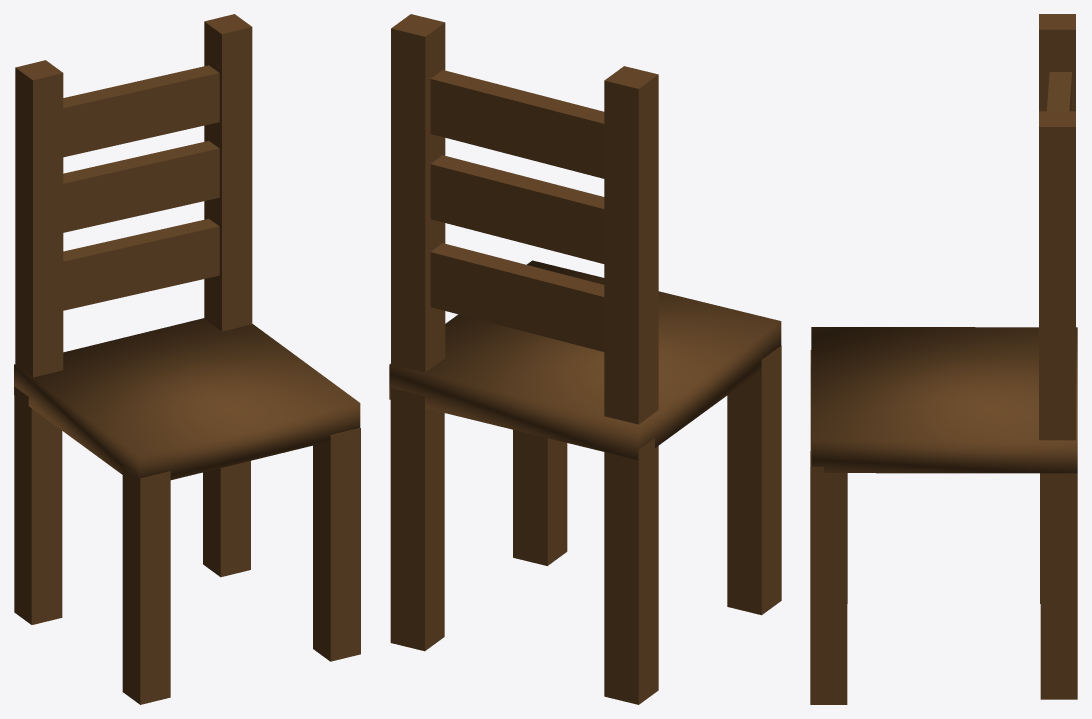
3 renders of one model, left to right at view 1: azimuth 30°, elevation 25°; view 2: azimuth 150°, elevation 25°; view 3: azimuth 270°, elevation 25°, orthographic. The views are drawn at different scales.
Visible parts, largest first — view 1: Plane.004, Cube.011, Cube.010, Cube.008, Cube.009, Cube.004, Plane.005, Plane.006, Plane.007, Cube.007; view 2: Plane.004, Cube.011, Cube.010, Cube.004, Cube.007, Cube.008, Plane.005, Plane.006, Plane.007, Cube.009; view 3: Plane.004, Cube.010, Cube.009, Cube.007, Cube.011, Plane.007.
Boxes of the visible parts, x1,y1,x2,y2 form: Plane.004: (14, 318, 360, 479); Cube.011: (15, 60, 63, 377); Cube.010: (204, 14, 252, 331); Cube.008: (122, 466, 170, 704); Cube.009: (313, 428, 360, 661); Cube.004: (14, 386, 62, 624); Plane.005: (63, 218, 219, 310); Plane.006: (63, 141, 219, 232); Plane.007: (63, 65, 219, 157); Cube.007: (203, 461, 250, 577); Plane.004: (389, 260, 781, 460); Cube.011: (604, 66, 658, 424); Cube.010: (391, 14, 445, 372); Cube.004: (604, 438, 658, 704); Cube.007: (390, 388, 444, 651); Cube.008: (727, 345, 781, 615); Plane.005: (430, 243, 604, 351); Plane.006: (430, 155, 604, 263); Plane.007: (430, 70, 604, 178); Cube.009: (513, 430, 567, 565); Plane.004: (811, 327, 1077, 473); Cube.010: (1039, 111, 1075, 440); Cube.009: (810, 451, 847, 704); Cube.007: (1040, 473, 1077, 699); Cube.011: (1039, 14, 1075, 111); Plane.007: (1047, 72, 1071, 111).
Bounding box in the file's own units: 2.33 × 5.54 × 2.32.
